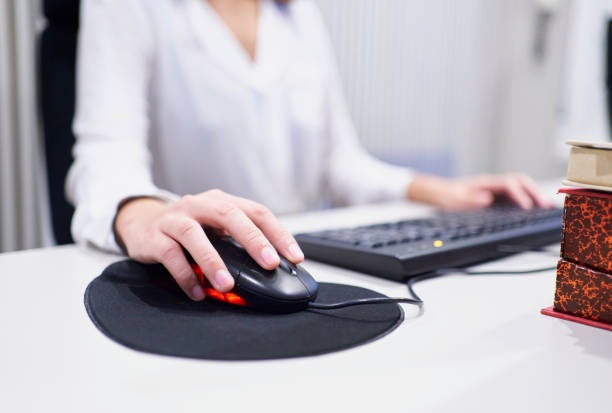keyboard: (293, 193, 562, 276)
mouse: (167, 213, 322, 311)
